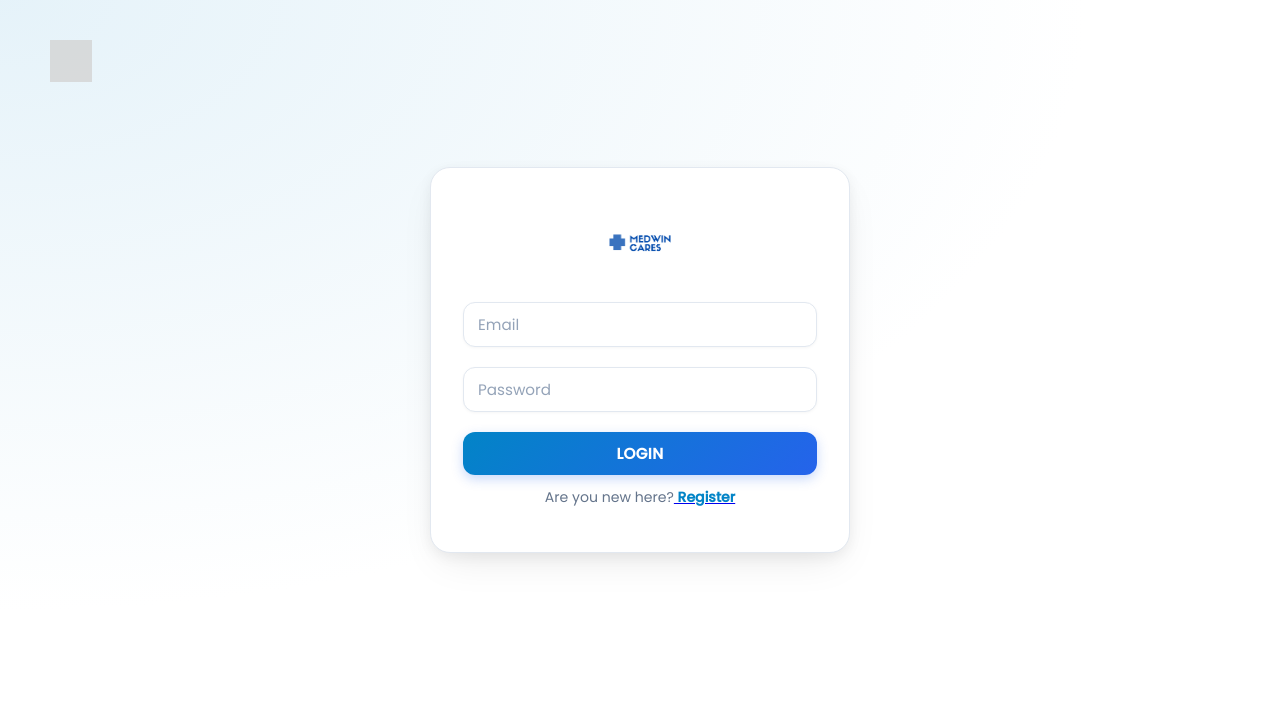
Test case: Nurse & Pharmacist Authentication and Navigation › Pharmacist Workflow › completes pharmacist sign in and lands on Pharmacist Home dashboard
Type "marie@example.com" into the field with placeholder "Email".
click(640, 325); type("marie@example.com")  # box [463,302,817,347]
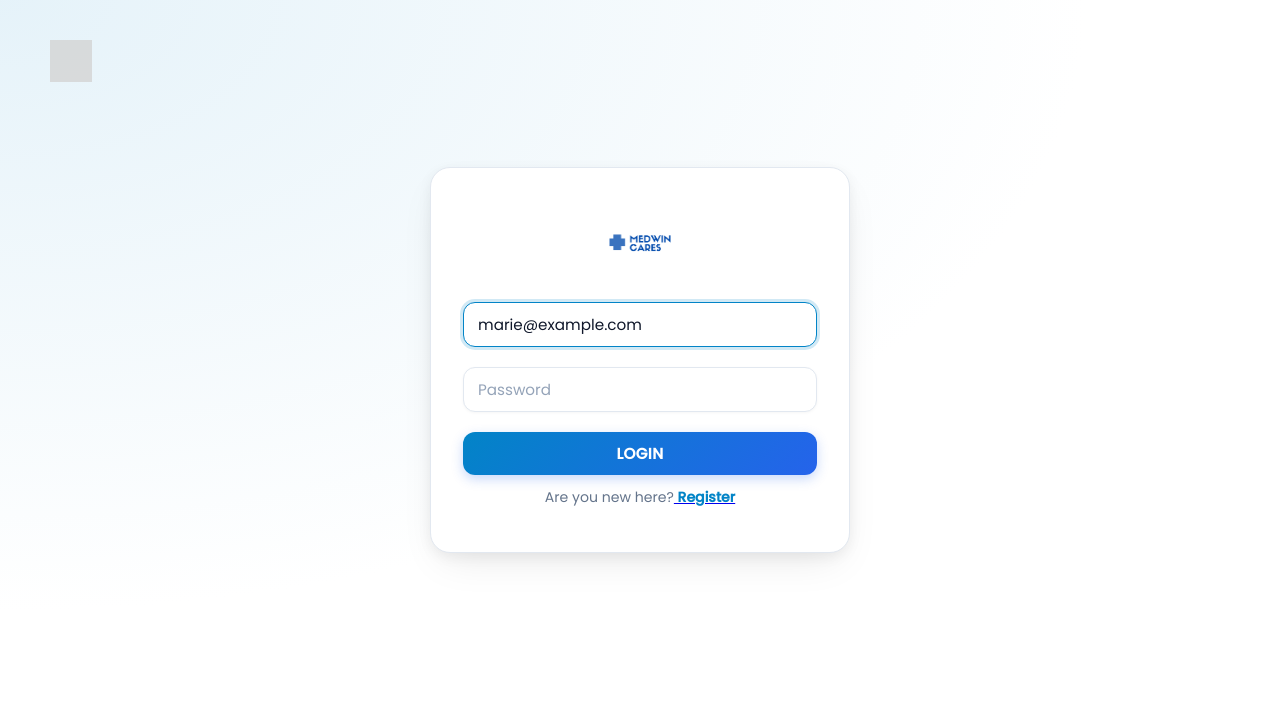
Type "password123" into the password field with placeholder "Password".
click(640, 390); type("password123")  # box [463,367,817,412]
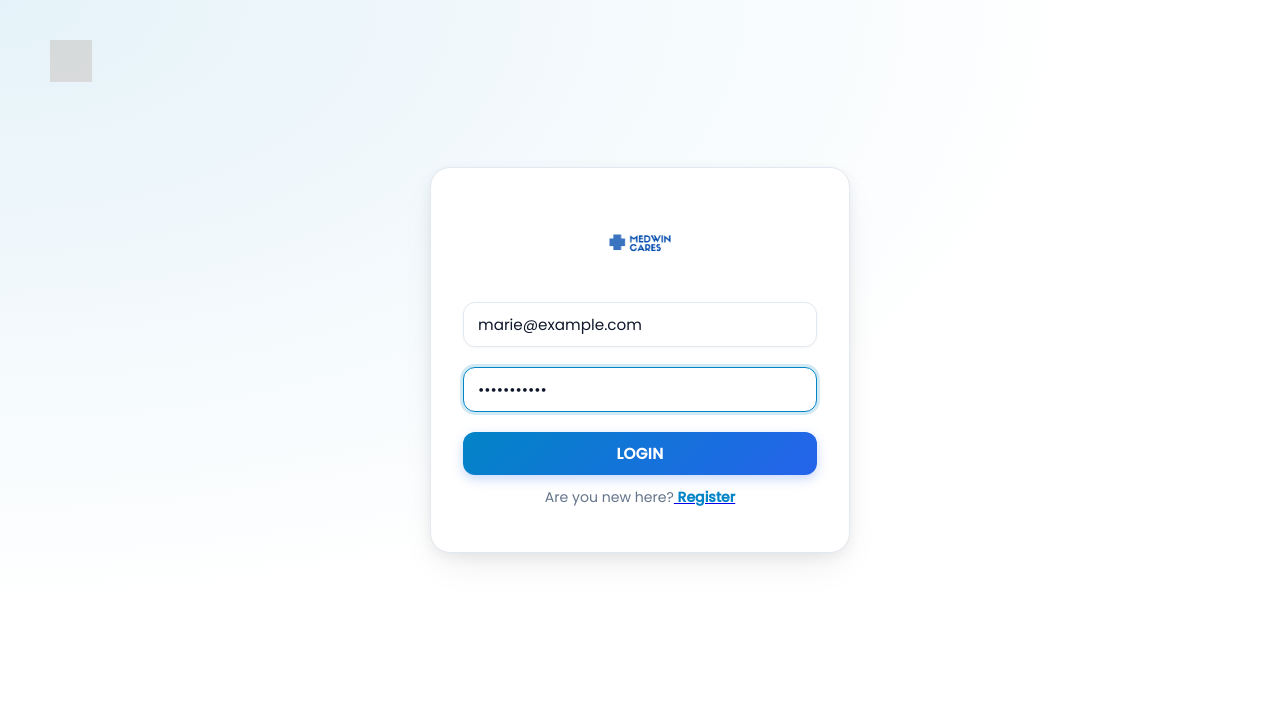
Click the submit button.
click(640, 454)  # box [463,432,817,475]
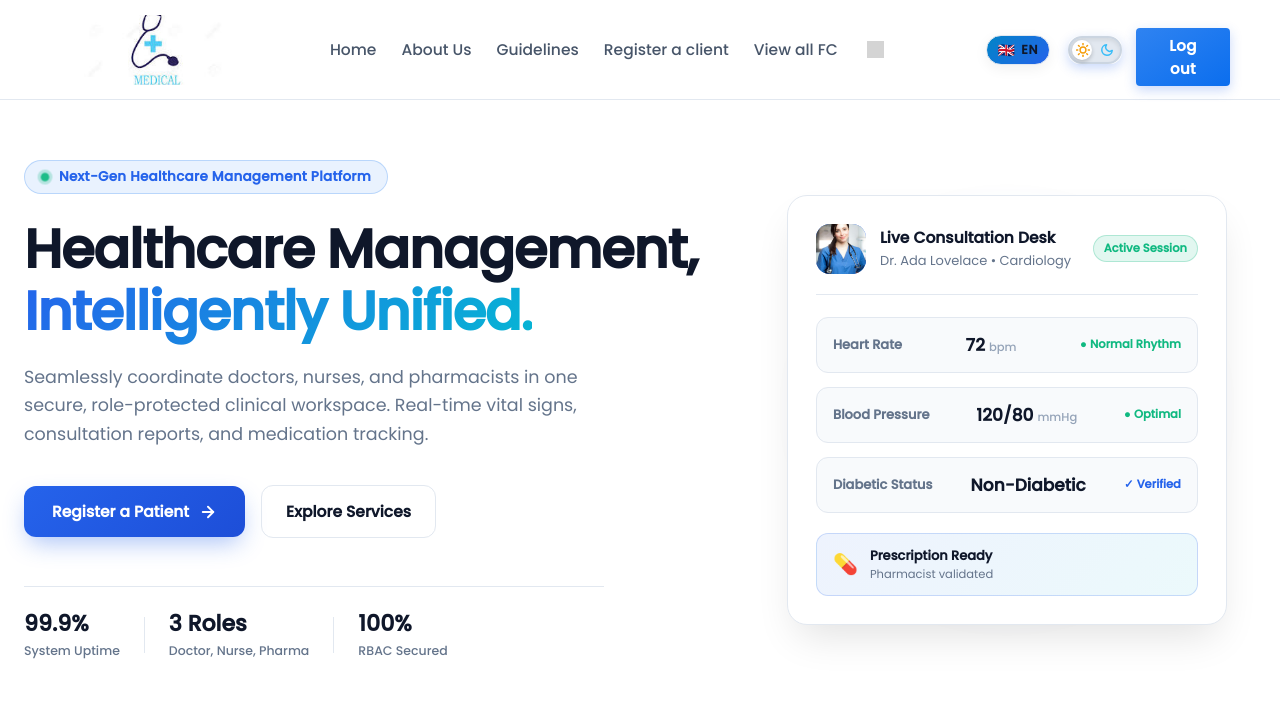
Check: the element with class "navbarPha" is shown, box [0,0,1279,100]
Check: the button "Log out" is shown, box [1136,28,1230,86]
